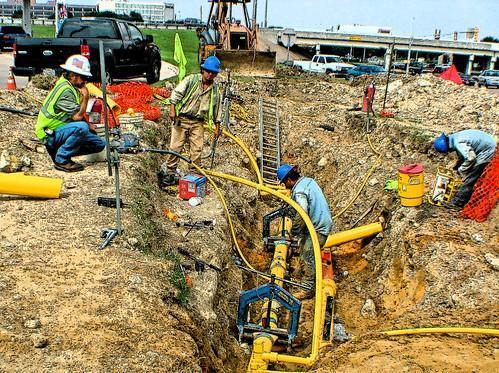vest: (31, 77, 82, 141), (173, 74, 220, 128)
